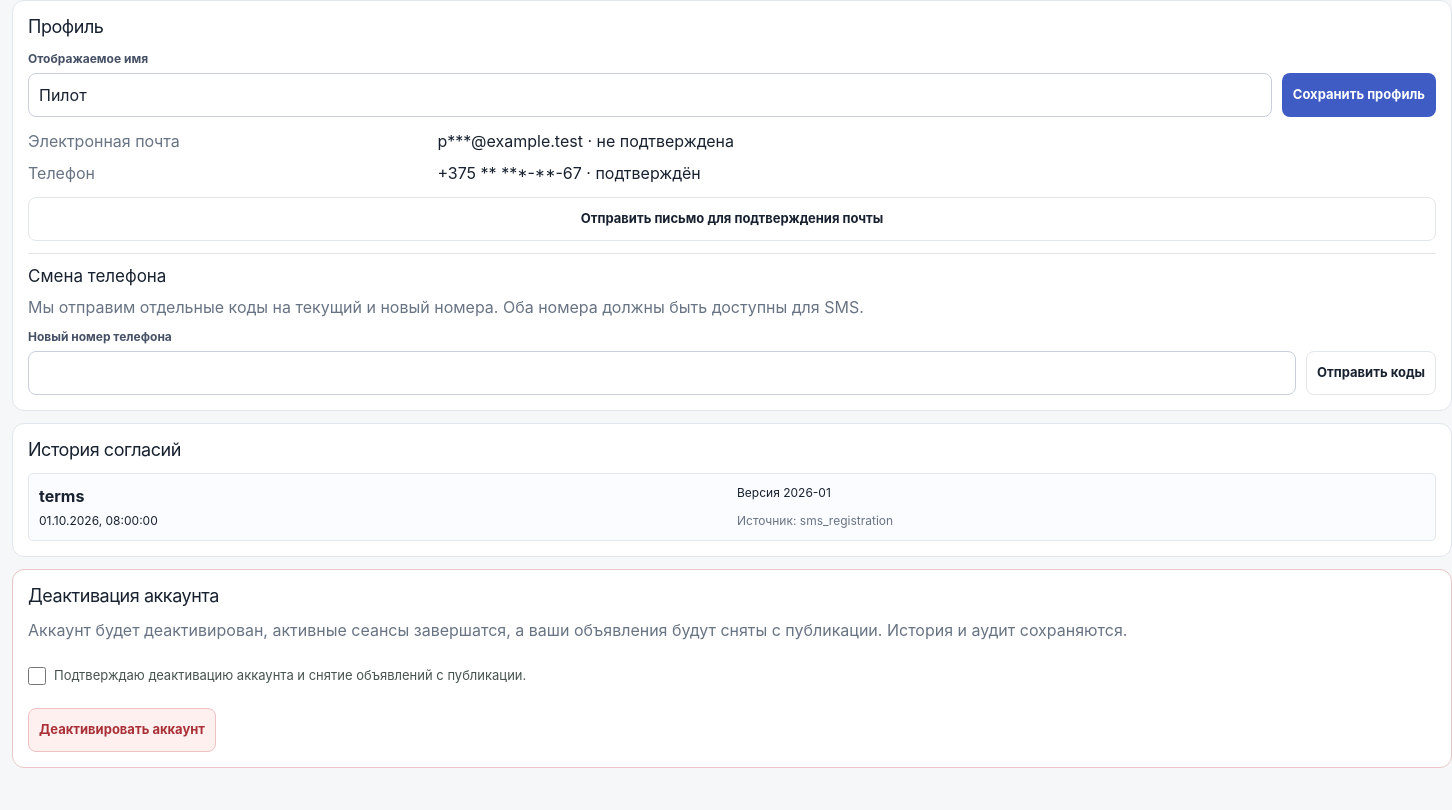
account identity controls › requires explicit deletion confirmation and reports the deactivation result
This screenshot has width=1452, height=810.
Step 1. Submit the form with class "account-deletion-form", box [28,667,526,752]
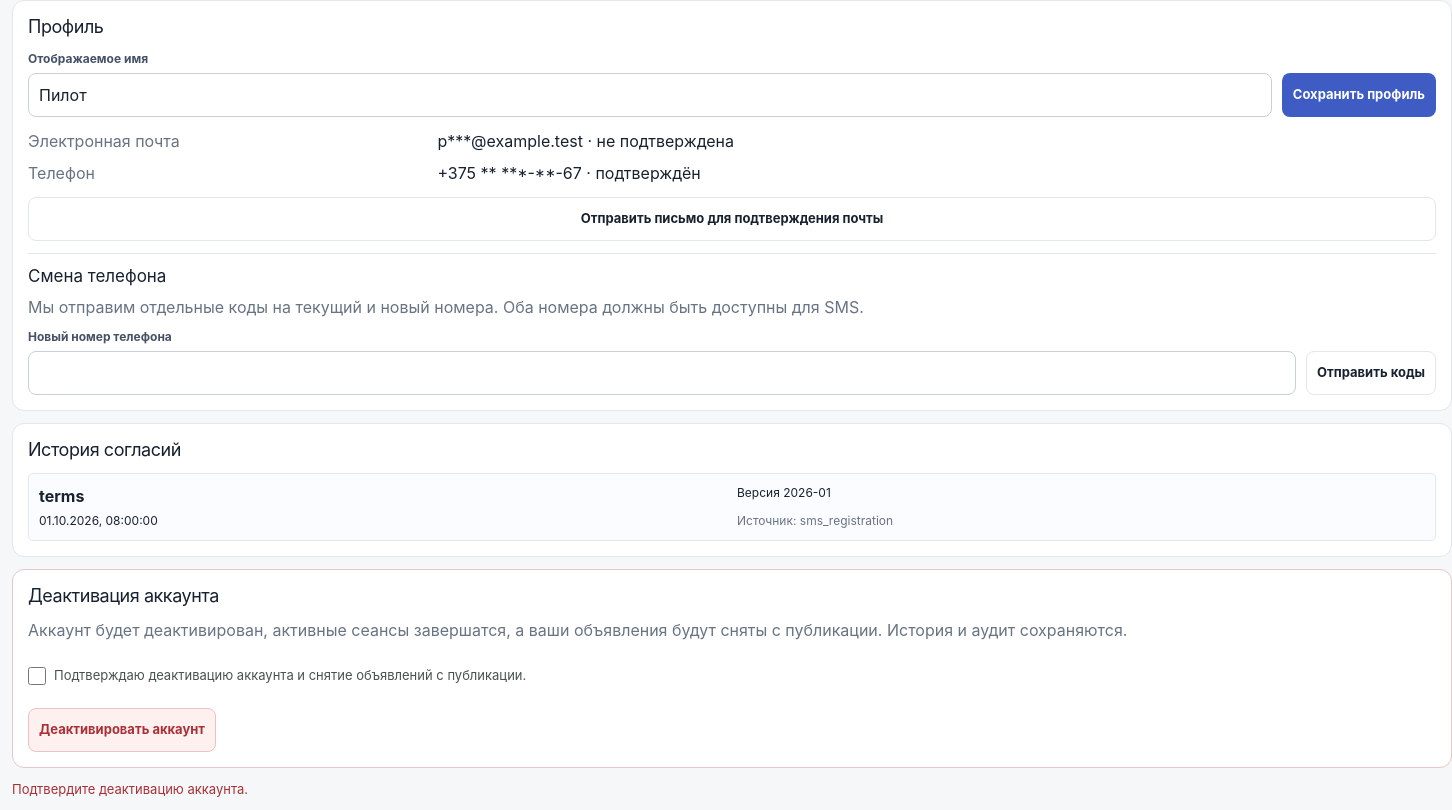
Check: the message "Подтвердите деактивацию аккаунта." is shown, box [12,781,248,797]
Step 2. Click the checkbox → (37, 676), box [28,667,46,685]
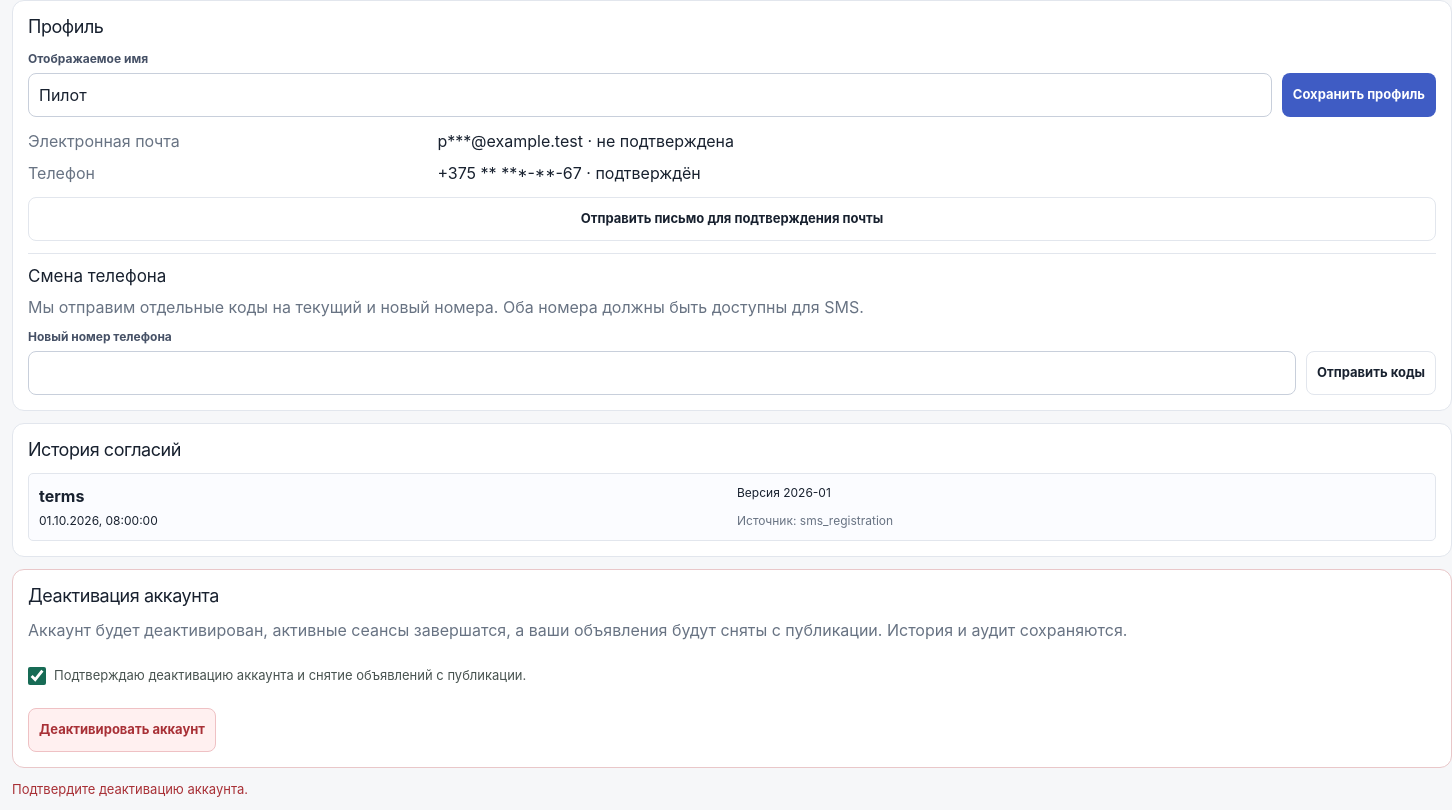
Step 3. Submit the form with class "account-deletion-form", box [28,667,526,752]
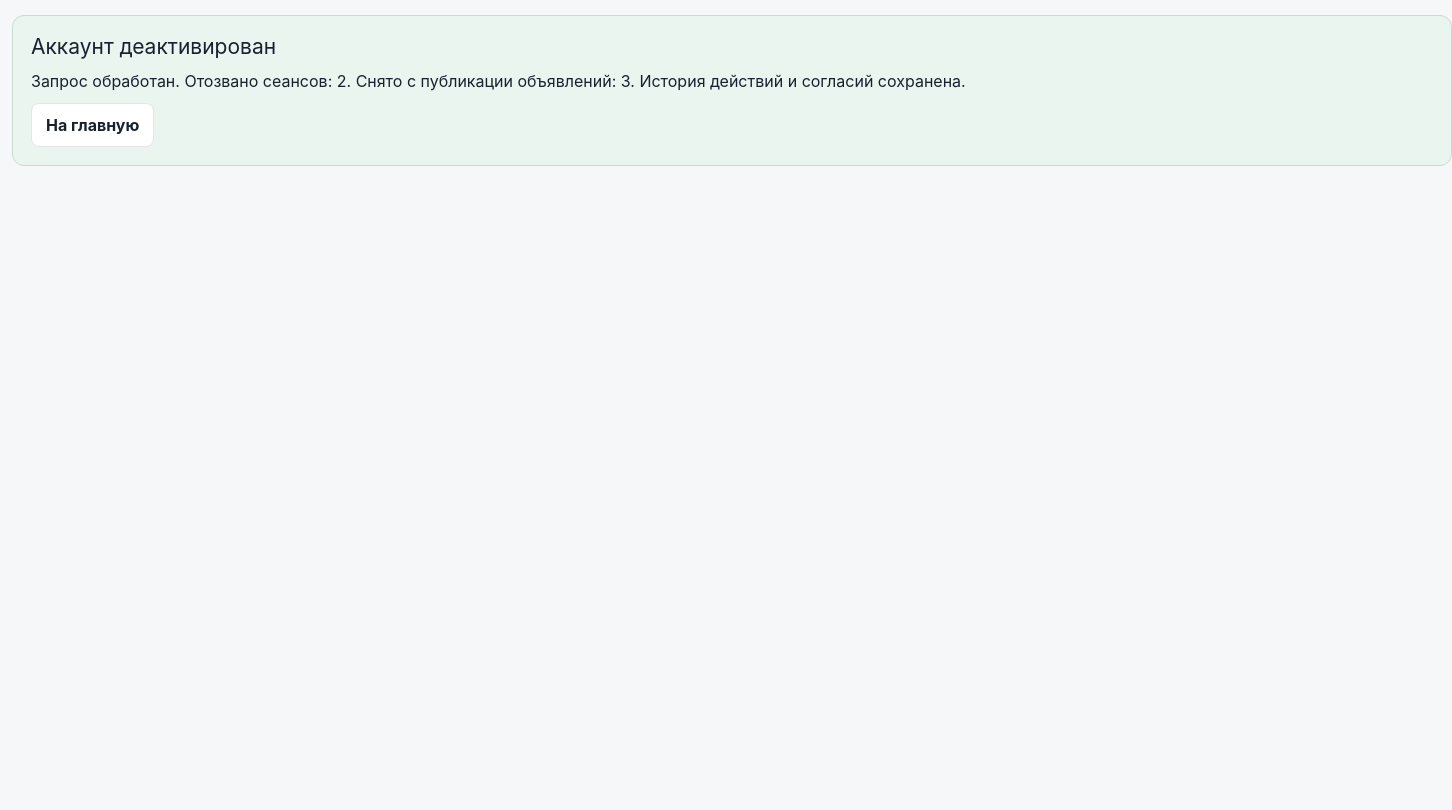
Check: the text "Аккаунт деактивирован" is shown, box [31,34,276,59]
Check: the text "Отозвано сеансов: 2" is shown, box [31,71,966,91]
Check: the text "Снято с публикации объявлений: 3" is shown, box [31,71,966,91]
